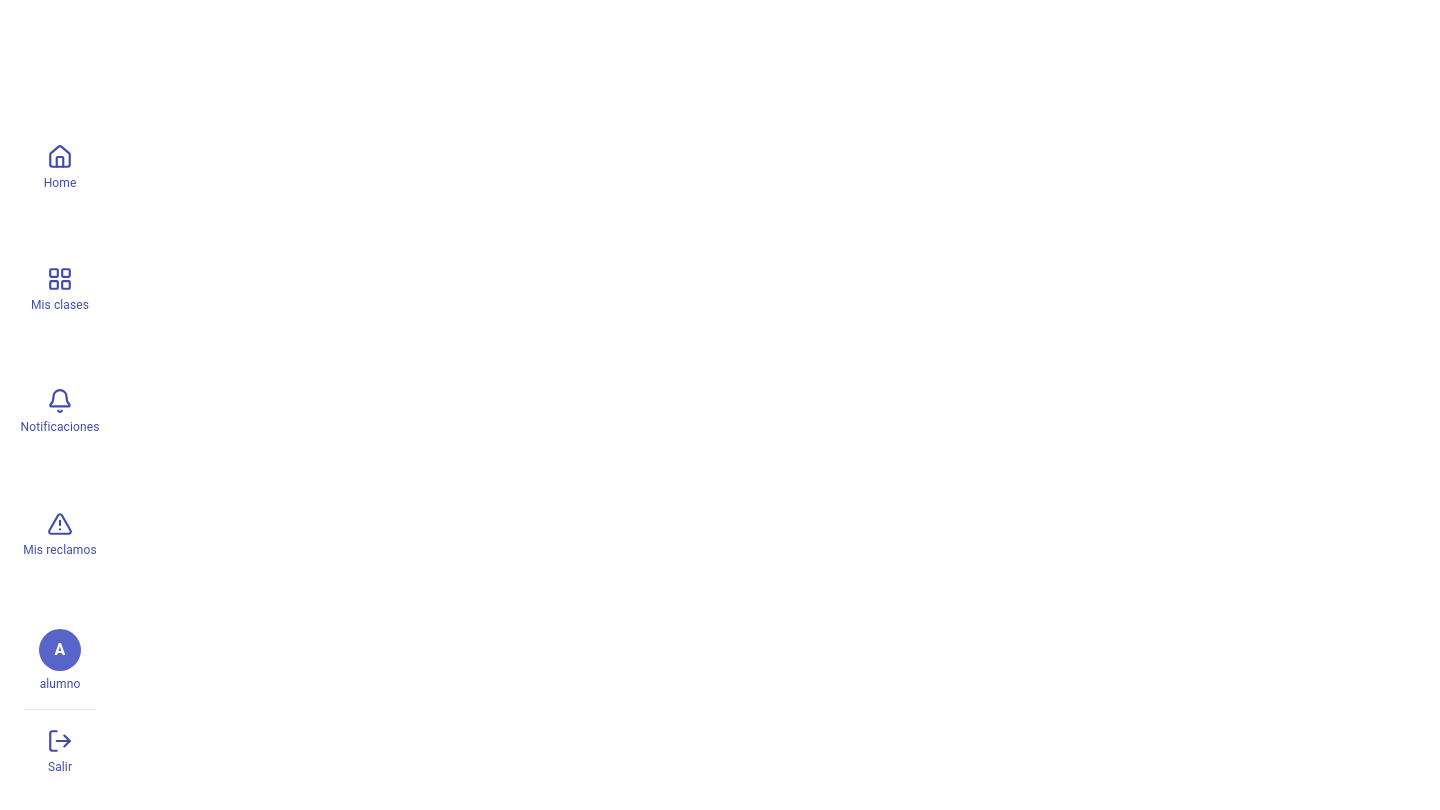
Test: StudentSidebar - panel de notificaciones › abre el panel, lo cierra con click fuera y devuelve el foco a la campana
Click the button "Notificaciones" at x=60, y=411, box [20, 388, 100, 434]
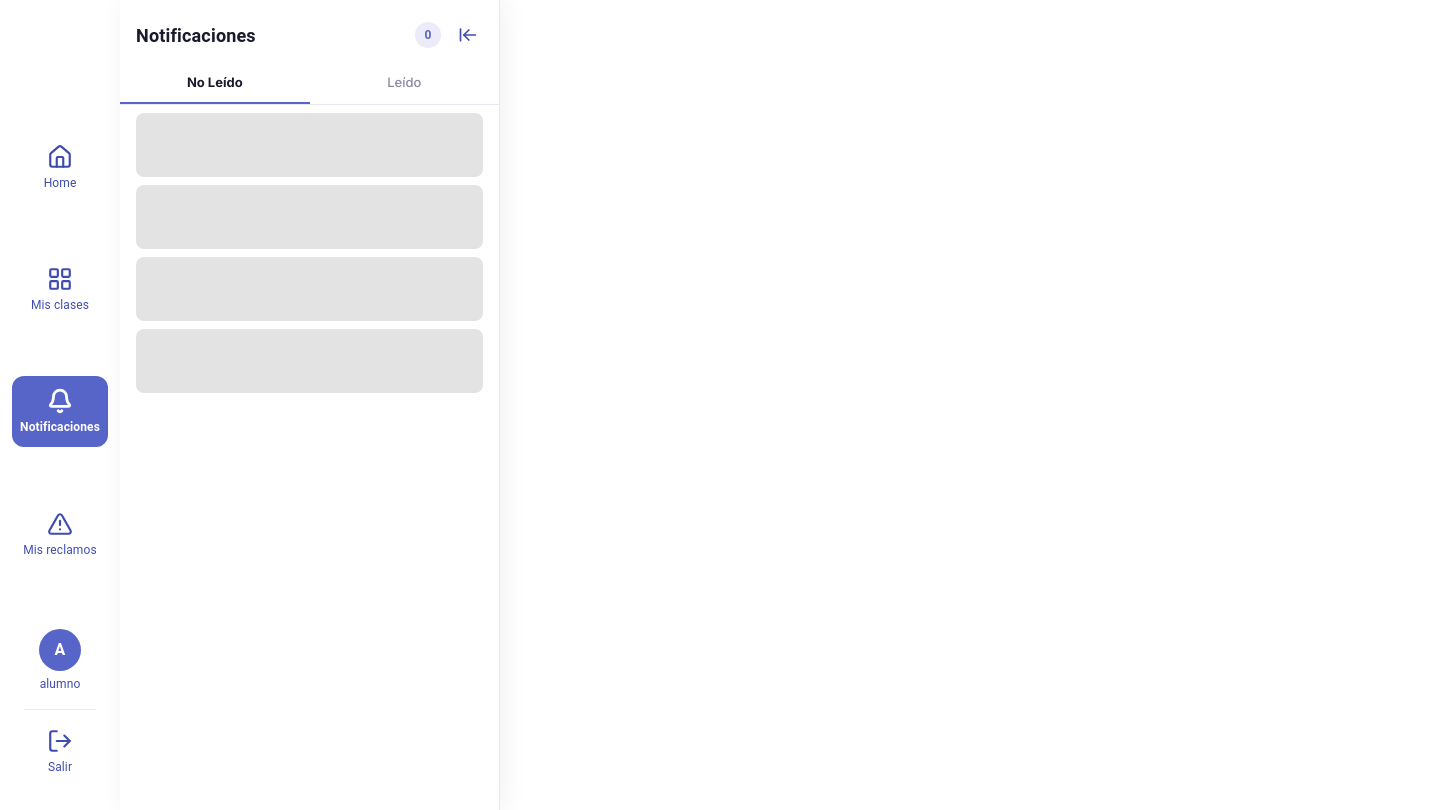
Expected: the dialog is shown, [120, 0, 500, 809]
Click the element with test id "notifications-backdrop" at x=720, y=405, box [0, 0, 1439, 809]
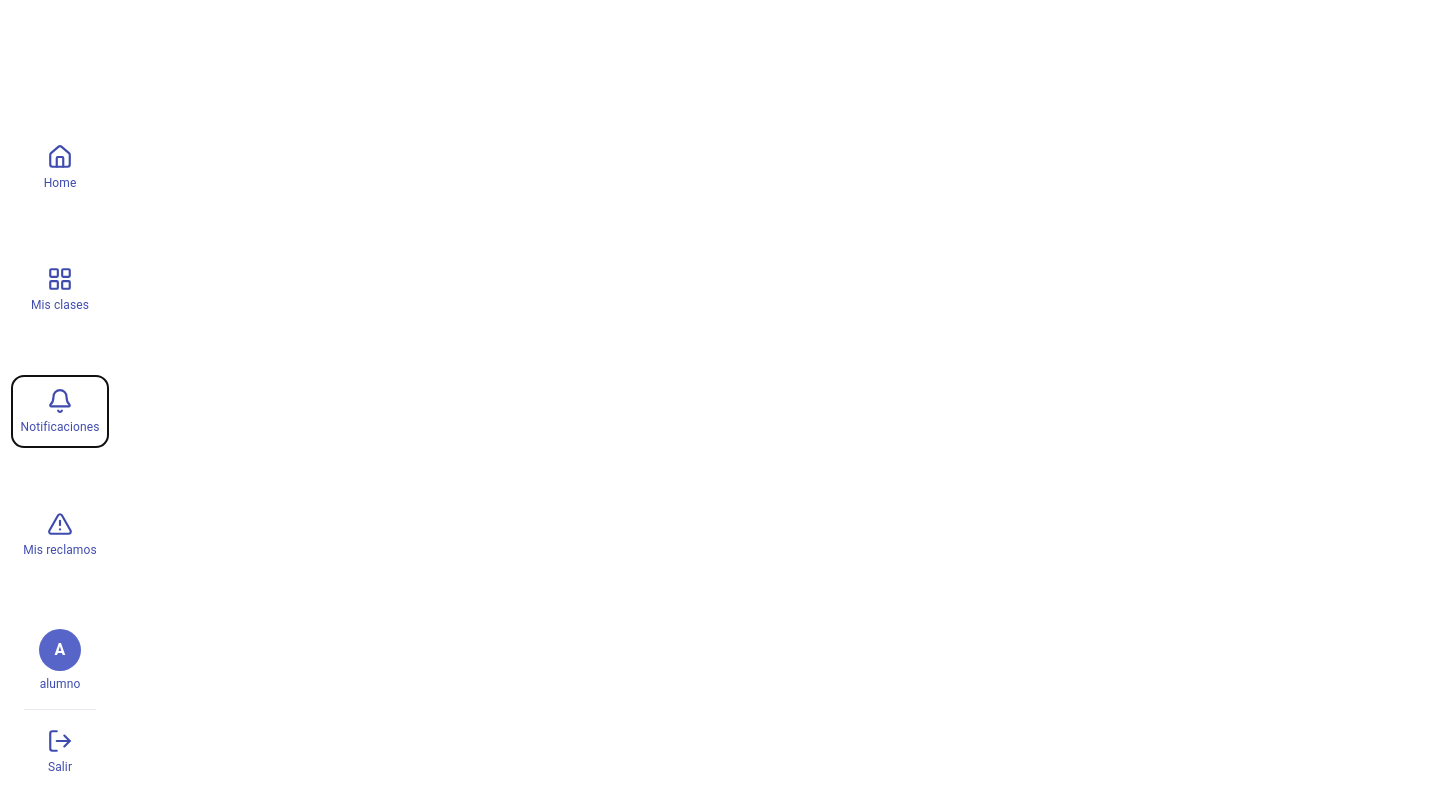
Expected: the dialog is gone
